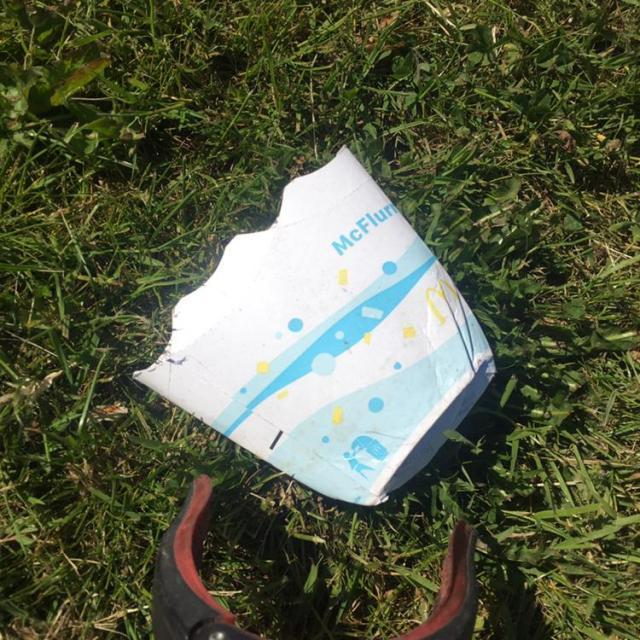Paper: (129, 140, 500, 514)
